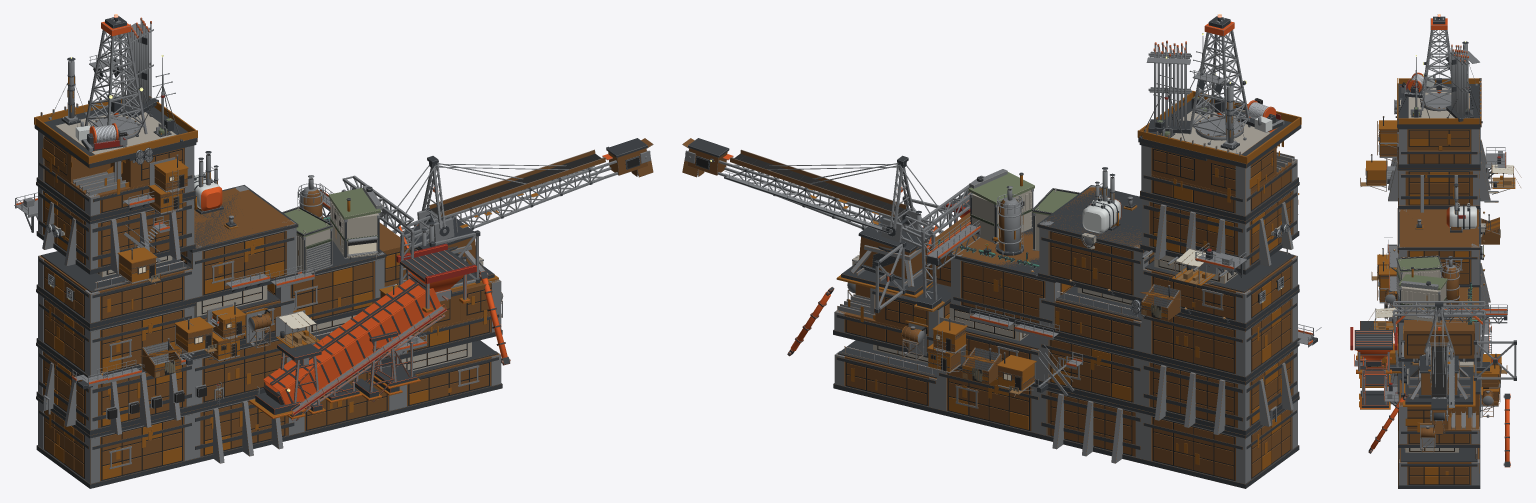
The model's file is hulk_settlement.fbx.
3 views of the same model, side by side, from view 1: azimuth 30°, elevation 25°; view 2: azimuth 150°, elevation 25°; view 3: azimuth 270°, elevation 25° (orthographic). The views are drawn at different scales.
Visible parts, largest first — view 1: Mesh_Conveyor_Ramp, Mesh_Block_L3_B_Plain, Mesh_Block_L0_A_Plain, Mesh_Block_L4_A_Buttressed, Mesh_Block_L1_A_Buttressed, Mesh_Block_L3_A_Stepped, Mesh_Block_L2_A_Plain, Mesh_Block_L5_A_Breached, Mesh_Block_L2_C_Cantilever, Mesh_Boom_Span, Mesh_Block_L0_D_Stepped, Mesh_Hulk_CrownDeck (+29 smaller); view 2: Mesh_Block_L1_A_Buttressed, Mesh_Block_L3_B_Plain, Mesh_Block_L0_A_Plain, Mesh_Block_L2_A_Plain, Mesh_Block_L5_A_Breached, Mesh_Block_L2_C_Cantilever, Mesh_Block_L4_A_Buttressed, Mesh_Block_L3_A_Stepped, Mesh_Block_L0_B_Buttressed, Mesh_Boom_Span, Mesh_Block_L0_D_Stepped, Mesh_Block_L1_B_Plain (+28 smaller); view 3: Mesh_Block_L3_B_Plain, Mesh_Block_L4_A_Buttressed, Mesh_Block_L5_A_Breached, Mesh_Block_L0_D_Stepped, Mesh_Block_L1_D_Breached, Mesh_Block_L2_C_Cantilever, Mesh_Hulk_CrownDeck, Mesh_Boom_Portal, Mesh_Tower_Mast, Mesh_Roof_Workshop, Mesh_Conveyor_Hopper, Mesh_Tower_PipeRack (+31 smaller).
Boxes of the visible parts, x1,y1,x2,y2 form: Mesh_Conveyor_Ramp: (249, 277, 446, 420); Mesh_Block_L3_B_Plain: (180, 185, 298, 303); Mesh_Block_L0_A_Plain: (36, 396, 195, 488); Mesh_Block_L4_A_Buttressed: (36, 182, 195, 274); Mesh_Block_L1_A_Buttressed: (36, 342, 195, 435); Mesh_Block_L3_A_Stepped: (36, 251, 195, 328); Mesh_Block_L2_A_Plain: (36, 289, 195, 377); Mesh_Block_L5_A_Breached: (36, 131, 196, 220); Mesh_Block_L2_C_Cantilever: (267, 215, 409, 327); Mesh_Boom_Span: (427, 149, 605, 232); Mesh_Block_L0_D_Stepped: (397, 340, 502, 413); Mesh_Hulk_CrownDeck: (34, 92, 197, 168); Mesh_Block_L1_A_Buttressed: (1139, 344, 1299, 435); Mesh_Block_L3_B_Plain: (1037, 185, 1154, 301); Mesh_Block_L0_A_Plain: (1139, 396, 1299, 488); Mesh_Block_L2_A_Plain: (1140, 289, 1299, 381); Mesh_Block_L5_A_Breached: (1139, 141, 1298, 220); Mesh_Block_L2_C_Cantilever: (925, 212, 1072, 330); Mesh_Block_L4_A_Buttressed: (1139, 182, 1299, 274); Mesh_Block_L3_A_Stepped: (1140, 249, 1299, 328); Mesh_Block_L0_B_Buttressed: (1037, 385, 1143, 463); Mesh_Boom_Span: (724, 149, 908, 233); Mesh_Block_L0_D_Stepped: (833, 340, 938, 413); Mesh_Block_L1_B_Plain: (1038, 335, 1143, 410); Mesh_Block_L3_B_Plain: (1397, 208, 1480, 287); Mesh_Block_L4_A_Buttressed: (1388, 129, 1490, 212); Mesh_Block_L5_A_Breached: (1397, 127, 1480, 168); Mesh_Block_L0_D_Stepped: (1398, 448, 1480, 488); Mesh_Block_L1_D_Breached: (1397, 367, 1480, 447); Mesh_Block_L2_C_Cantilever: (1397, 281, 1480, 361); Mesh_Hulk_CrownDeck: (1397, 78, 1481, 127); Mesh_Boom_Portal: (1390, 301, 1491, 373); Mesh_Tower_Mast: (1421, 14, 1459, 110); Mesh_Roof_Workshop: (1397, 267, 1447, 322); Mesh_Conveyor_Hopper: (1350, 327, 1397, 373); Mesh_Tower_PipeRack: (1446, 44, 1479, 121).
Size of the model in its own units: 9398 by 6600 by 3016.
